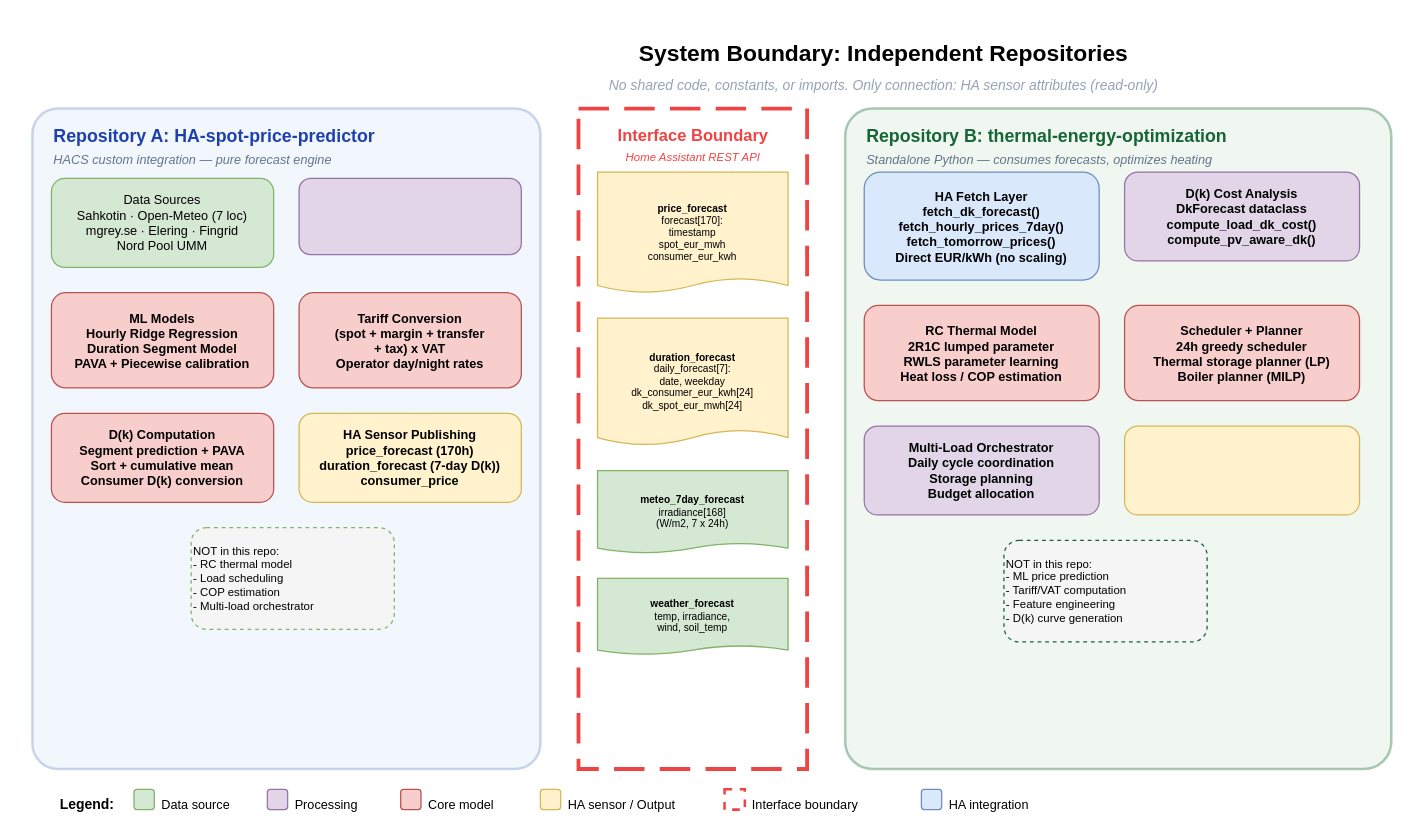
This 1414x834 diagram has some shape labels left out. The box of each missing label's shape, as (x1, y1, x2, y2) in pixels:
Feature Engineering 28-38 features: wind, solar, HDD, nuclear, cross-border: (298, 177, 521, 255)
Outputs HA switch commands Budget JSON files Flask webapp + D(k) charts: (1123, 425, 1360, 515)
